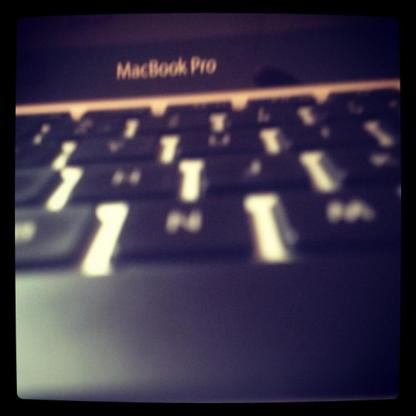board: (0, 0, 415, 386)
